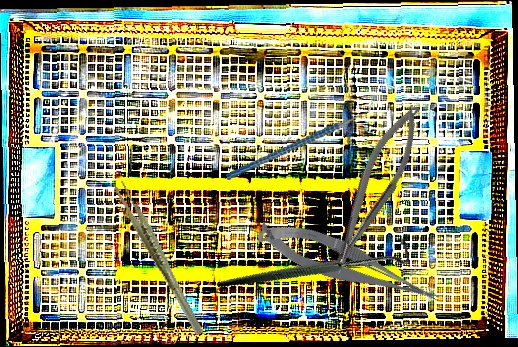Chopper: (219, 98, 383, 180)
Hook Surgical: (215, 185, 416, 343)
Micro Scissor: (252, 204, 444, 328)
Needle Holder: (314, 98, 434, 280)
Tissue Forceps: (112, 171, 205, 345)
